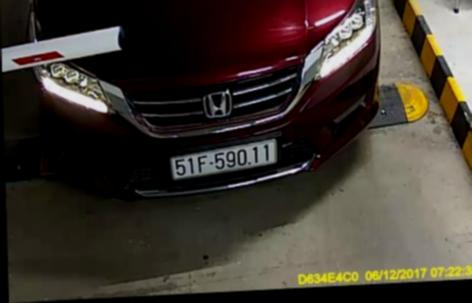License_Plate: (171, 138, 284, 178)
